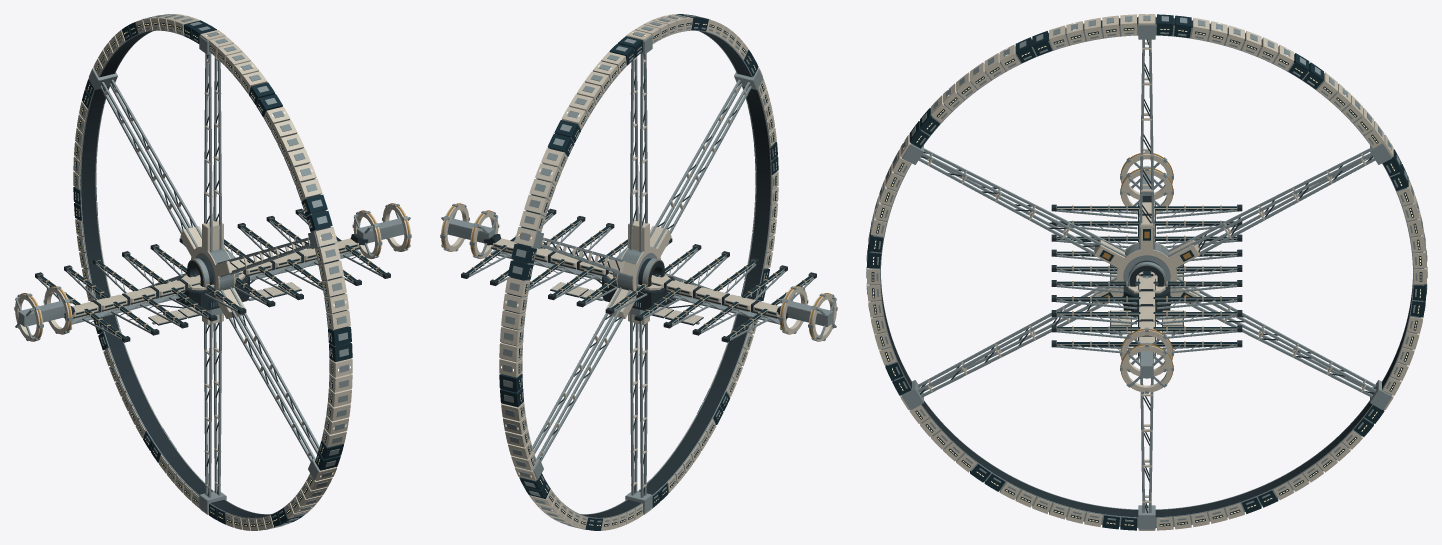
File: station-exterior.glb
3 views of the same model, side by side, from view 1: azimuth 30°, elevation 25°; view 2: azimuth 150°, elevation 25°; view 3: azimuth 270°, elevation 25° (orthographic). The views are drawn at different scales.
Parts seen in each view (by area): view 1: RingTemplate_ExteriorSteel Geometry, RingTemplate_ExteriorIvory Geometry, RingTemplate_ExteriorDark Geometry, FixedStructure_ExteriorIvory Geometry, FixedStructure_ExteriorSteel Geometry, RingTemplate_ExteriorPetrol Geometry, FixedStructure_ExteriorPetrol Geometry, FixedStructure_ExteriorDark Geometry, FixedStructure_ExteriorOchre Geometry, RingTemplate_Detail_ExteriorWindow Geometry; view 2: RingTemplate_ExteriorSteel Geometry, RingTemplate_ExteriorIvory Geometry, RingTemplate_ExteriorDark Geometry, FixedStructure_ExteriorIvory Geometry, FixedStructure_ExteriorSteel Geometry, RingTemplate_ExteriorPetrol Geometry, FixedStructure_ExteriorPetrol Geometry, FixedStructure_ExteriorDark Geometry, FixedStructure_ExteriorOchre Geometry, RingTemplate_Detail_ExteriorWindow Geometry; view 3: RingTemplate_ExteriorSteel Geometry, RingTemplate_ExteriorIvory Geometry, RingTemplate_ExteriorDark Geometry, FixedStructure_ExteriorSteel Geometry, FixedStructure_ExteriorIvory Geometry, FixedStructure_ExteriorPetrol Geometry, RingTemplate_ExteriorPetrol Geometry, FixedStructure_ExteriorDark Geometry, RingTemplate_Detail_ExteriorWindow Geometry, FixedStructure_ExteriorOchre Geometry.
Boxes of the visible parts, x1,y1,x2,y2 form: RingTemplate_ExteriorSteel Geometry: (75, 14, 350, 529); RingTemplate_ExteriorIvory Geometry: (73, 14, 352, 530); RingTemplate_ExteriorDark Geometry: (75, 22, 349, 526); FixedStructure_ExteriorIvory Geometry: (15, 203, 410, 341); FixedStructure_ExteriorSteel Geometry: (14, 204, 411, 340); RingTemplate_ExteriorPetrol Geometry: (73, 20, 352, 526); FixedStructure_ExteriorPetrol Geometry: (39, 211, 385, 338); FixedStructure_ExteriorDark Geometry: (35, 208, 390, 342); FixedStructure_ExteriorOchre Geometry: (20, 203, 409, 341); RingTemplate_Detail_ExteriorWindow Geometry: (75, 23, 332, 525); RingTemplate_ExteriorSteel Geometry: (501, 14, 776, 529); RingTemplate_ExteriorIvory Geometry: (499, 14, 778, 530); RingTemplate_ExteriorDark Geometry: (502, 22, 776, 526); FixedStructure_ExteriorIvory Geometry: (441, 203, 836, 341); FixedStructure_ExteriorSteel Geometry: (440, 204, 837, 340); RingTemplate_ExteriorPetrol Geometry: (499, 14, 778, 530); FixedStructure_ExteriorPetrol Geometry: (466, 211, 812, 338); FixedStructure_ExteriorDark Geometry: (461, 208, 816, 342); FixedStructure_ExteriorOchre Geometry: (442, 203, 831, 341); RingTemplate_Detail_ExteriorWindow Geometry: (519, 23, 776, 525); RingTemplate_ExteriorSteel Geometry: (866, 15, 1427, 529); RingTemplate_ExteriorIvory Geometry: (867, 14, 1426, 530); RingTemplate_ExteriorDark Geometry: (871, 17, 1422, 526); FixedStructure_ExteriorSteel Geometry: (1055, 151, 1238, 393); FixedStructure_ExteriorIvory Geometry: (1056, 154, 1237, 392); FixedStructure_ExteriorPetrol Geometry: (1056, 203, 1237, 346); RingTemplate_ExteriorPetrol Geometry: (867, 14, 1426, 530); FixedStructure_ExteriorDark Geometry: (1051, 196, 1242, 358); RingTemplate_Detail_ExteriorWindow Geometry: (872, 29, 1421, 525); FixedStructure_ExteriorOchre Geometry: (1072, 152, 1221, 388).
Size of the model in its own units: 2514 by 2988 by 2988.
